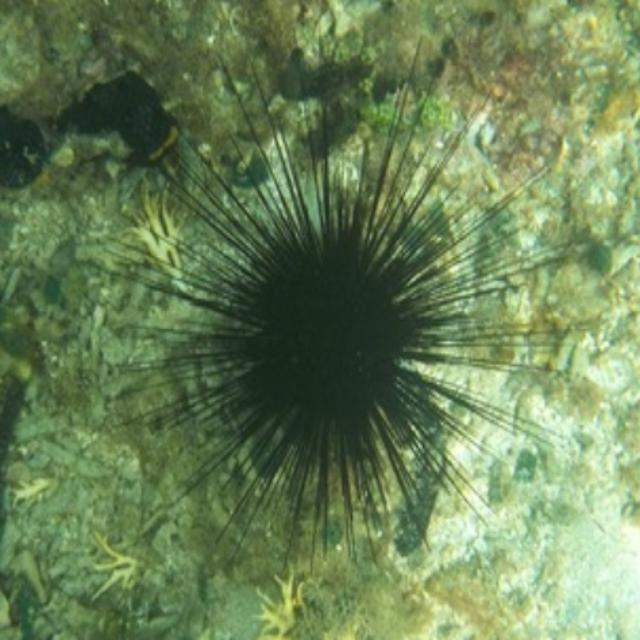Urchin: (116, 49, 570, 570)
